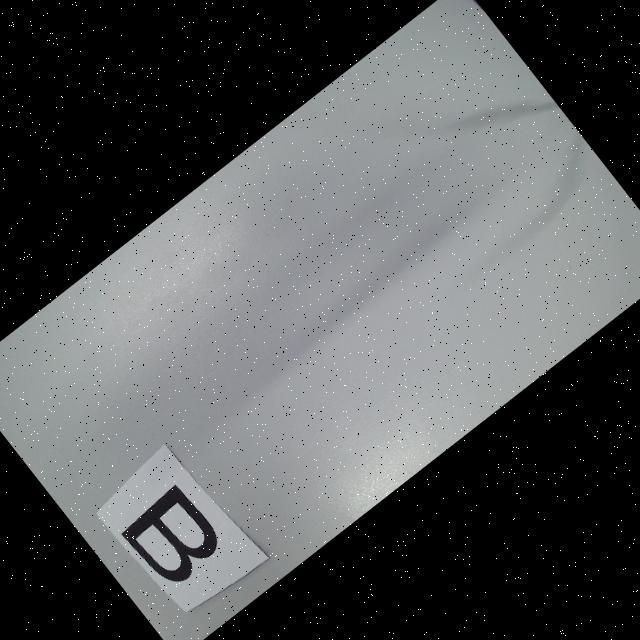FAKE: (118, 483, 229, 594)
